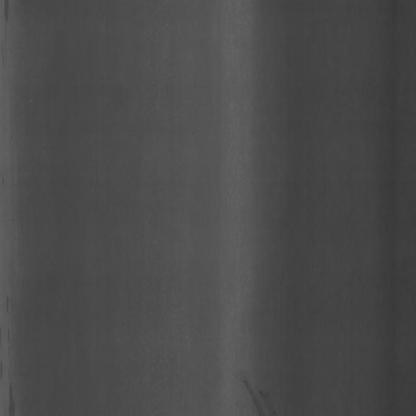water_spot: (238, 346, 277, 416)
